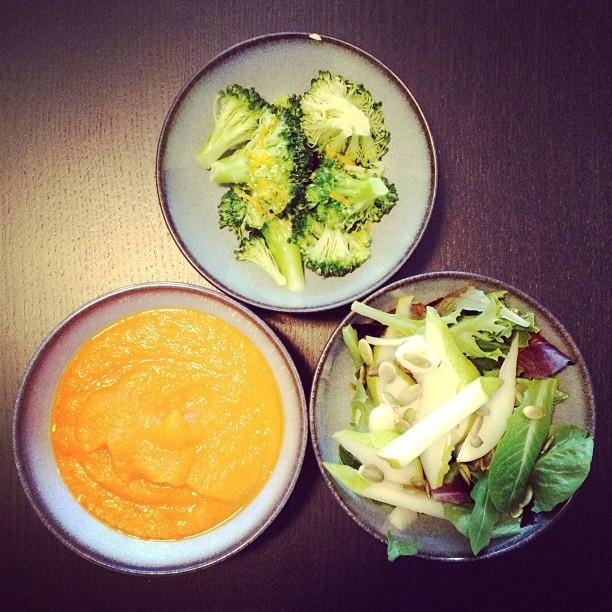broccoli: (210, 94, 320, 229), (298, 69, 391, 167), (305, 156, 399, 232), (196, 83, 271, 170), (301, 220, 371, 278), (260, 216, 306, 292), (232, 228, 286, 288), (287, 203, 327, 252), (217, 190, 248, 229)
